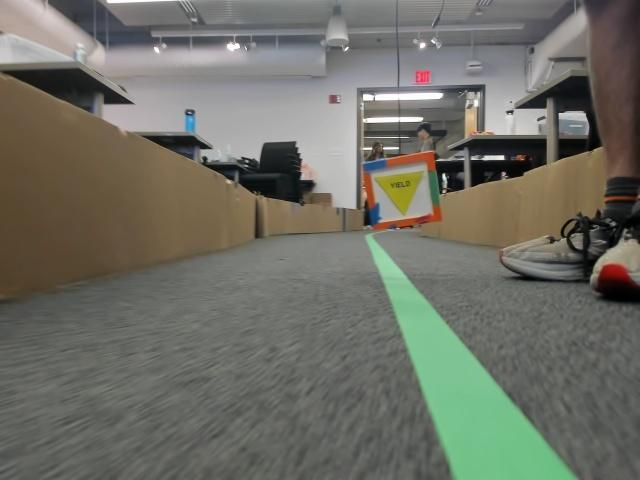Yield: (374, 177, 423, 217)
